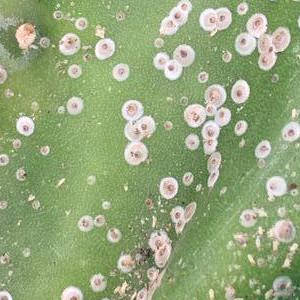Femea: (171, 43, 191, 64), (96, 41, 115, 59), (230, 83, 249, 101), (123, 102, 141, 119), (124, 147, 144, 162), (235, 35, 250, 53), (124, 125, 143, 139), (200, 9, 213, 29), (214, 9, 230, 25), (165, 64, 182, 78), (152, 53, 168, 67), (137, 120, 152, 134), (171, 7, 185, 22), (160, 17, 176, 30), (113, 64, 127, 78), (18, 119, 32, 133), (217, 109, 231, 123), (256, 141, 269, 155), (68, 100, 83, 112), (67, 65, 81, 77), (74, 18, 88, 29), (79, 216, 91, 228), (206, 104, 216, 116), (52, 10, 63, 20), (161, 121, 173, 130), (39, 36, 48, 46), (197, 73, 206, 82), (178, 96, 187, 105), (221, 53, 230, 60)
Macho: (54, 176, 69, 188)
